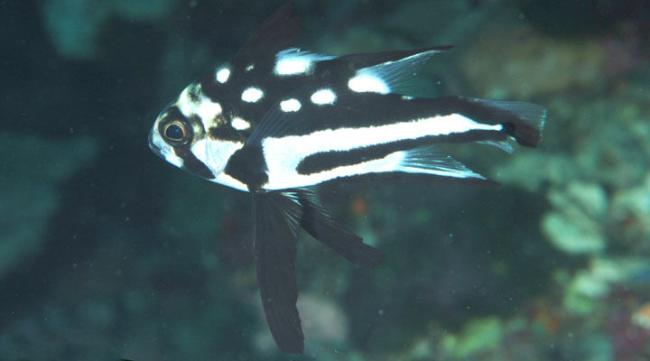fish: (145, 45, 547, 357)
